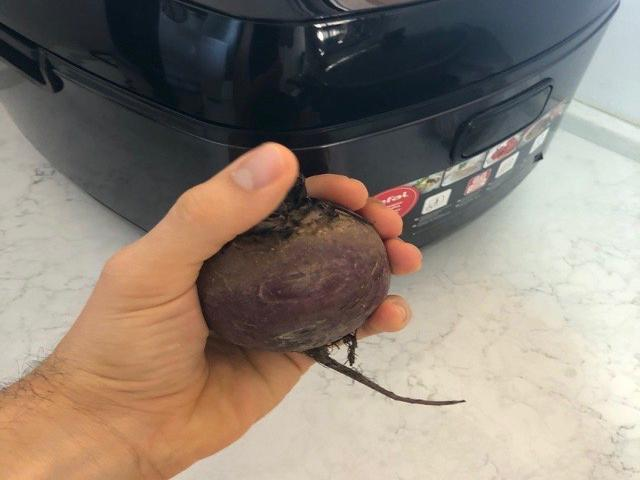beet: (198, 176, 465, 405)
